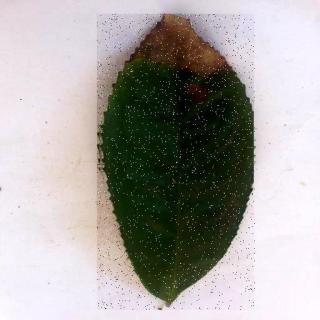Brown Blight: (99, 15, 257, 311)
